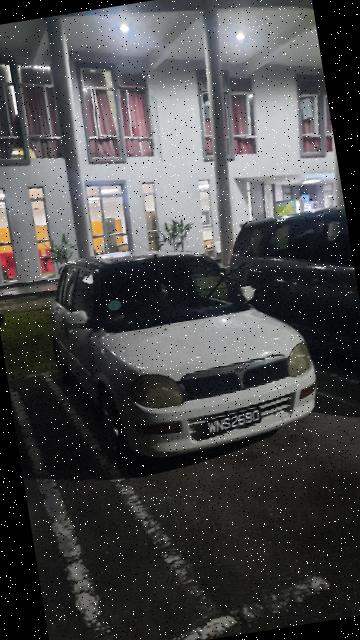License_Plate: (192, 407, 266, 444)
car: (45, 221, 329, 472)
